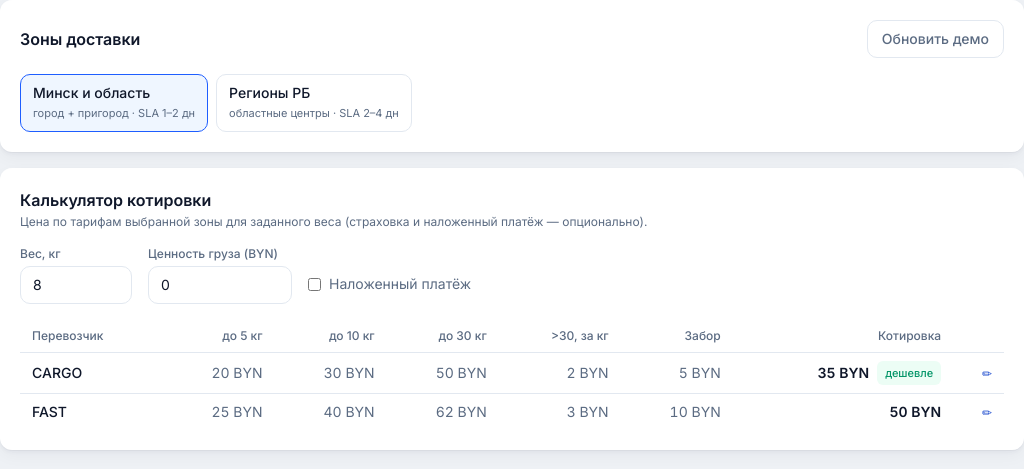
Scenario: LogisticsTariffs › изменение веса пересчитывает котировку по весовой вилке
Expected: the text "CARGO" is shown, [20,352,162,394]
Replace the text in the number field labelled "Вес, кг" with "3" at (76, 285), box [20,266,132,304]
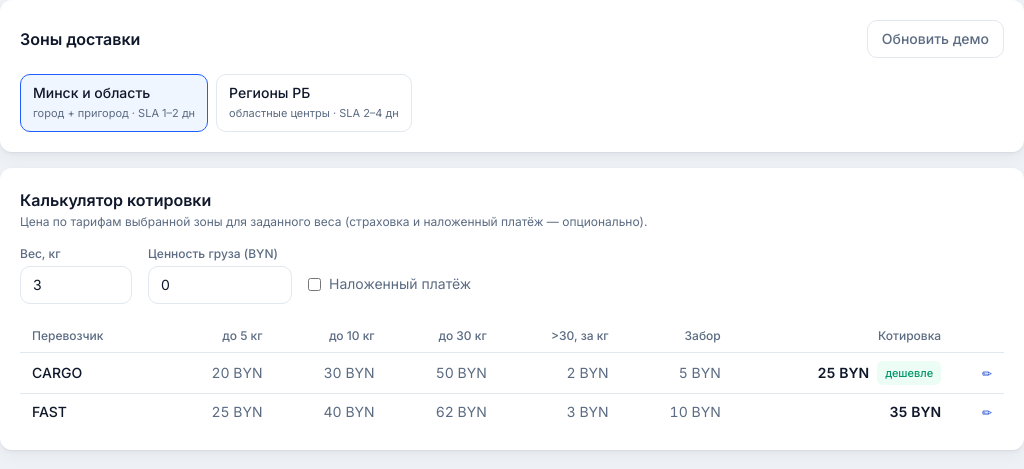
Expected: the text "дешевле" is shown, [877,361,941,385]
Now the text "25 BYN" is shown, box [817,363,869,383]
Now the text "35 BYN" is shown, box [889,402,941,422]
